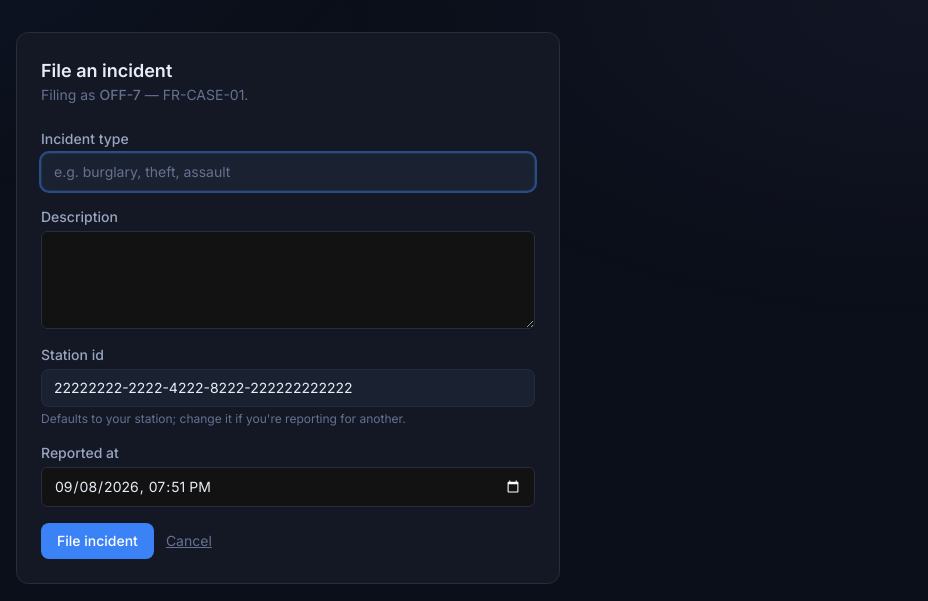
Test case: IncidentPage — file an incident (FR-CASE-01) › submits with reported_by/station from the token and a UUID Idempotency-Key
Type "burglary" into the field labelled "Incident type" at x=288, y=172, box [41,153,535,191]
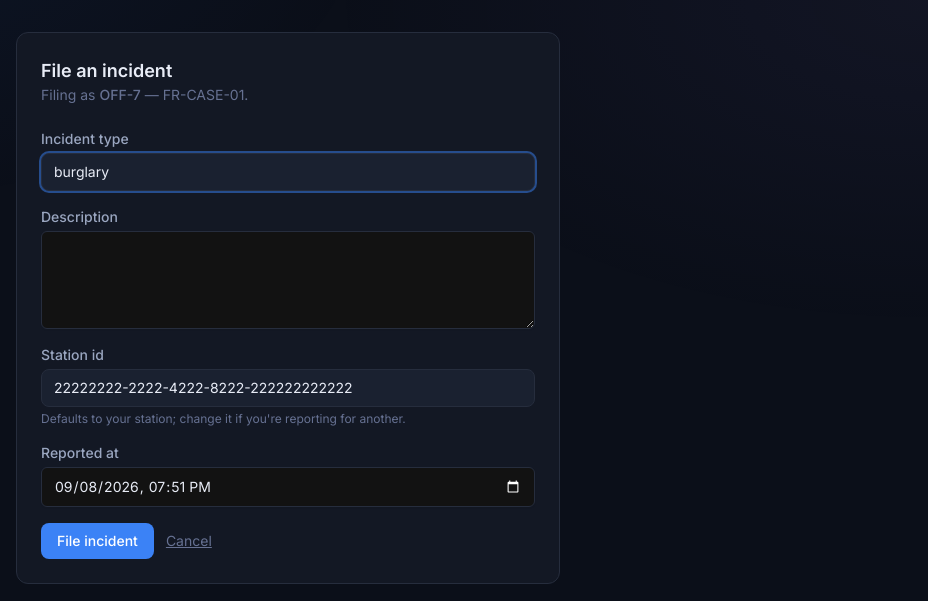
Type "forced rear door" into the text box labelled "Description" at x=288, y=280, box [41,231,535,329]
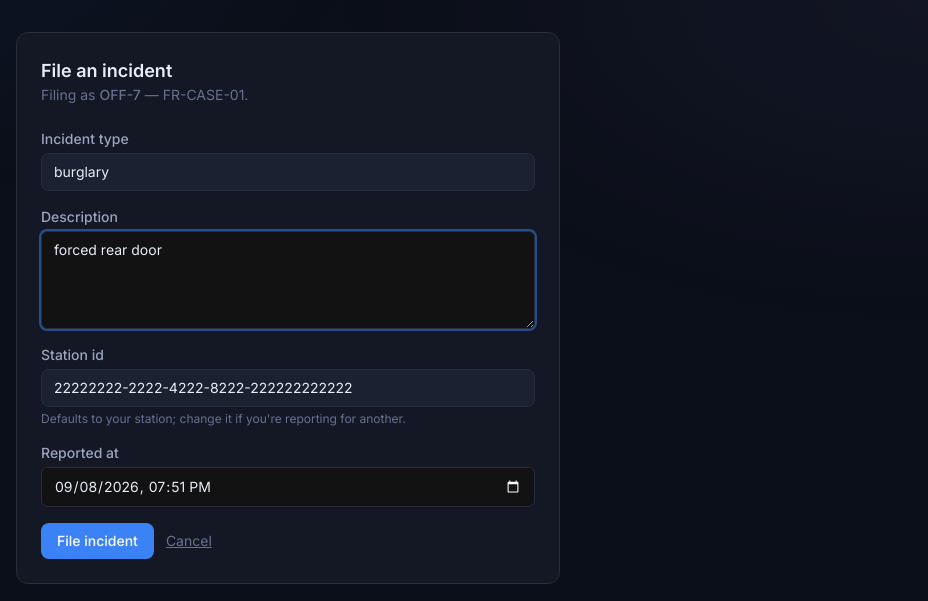
Click the button "File incident" at x=97, y=541, box [41,523,154,559]
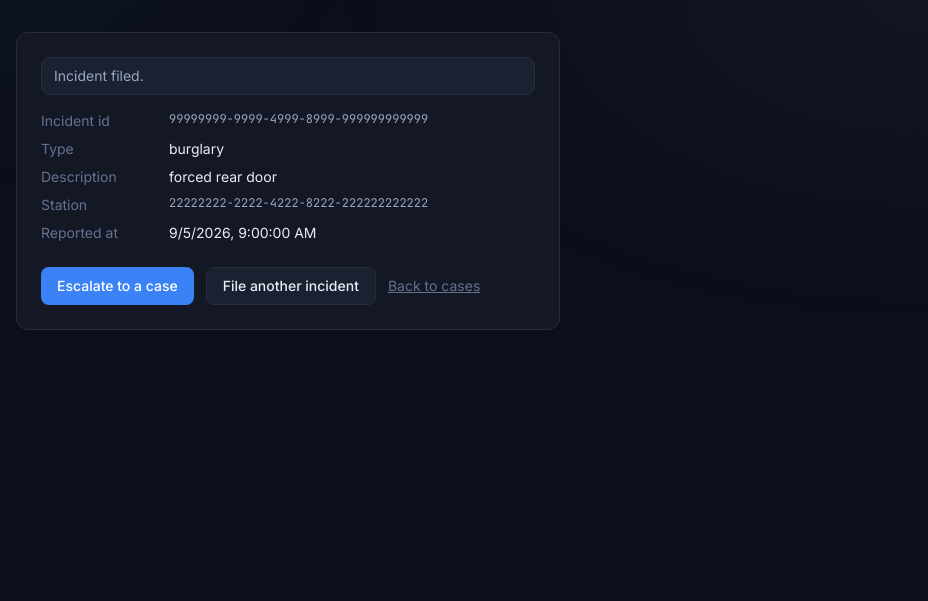
Expected: the text "Incident filed." is shown, [41,57,535,95]
